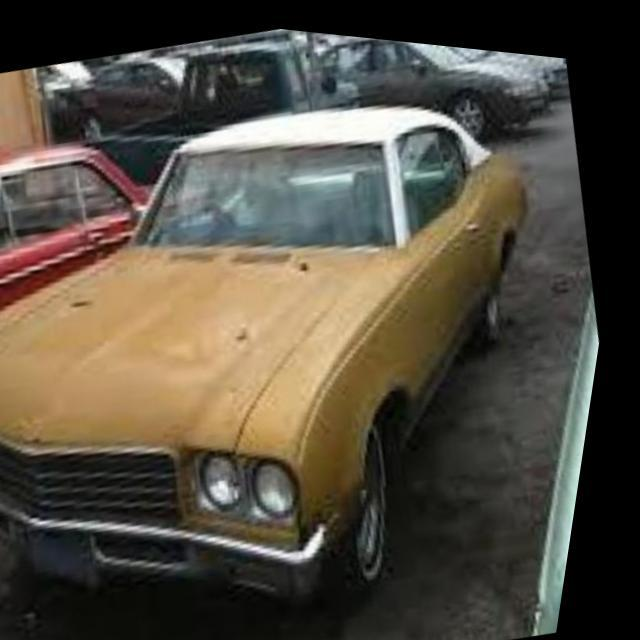rub: (136, 300, 255, 372)
